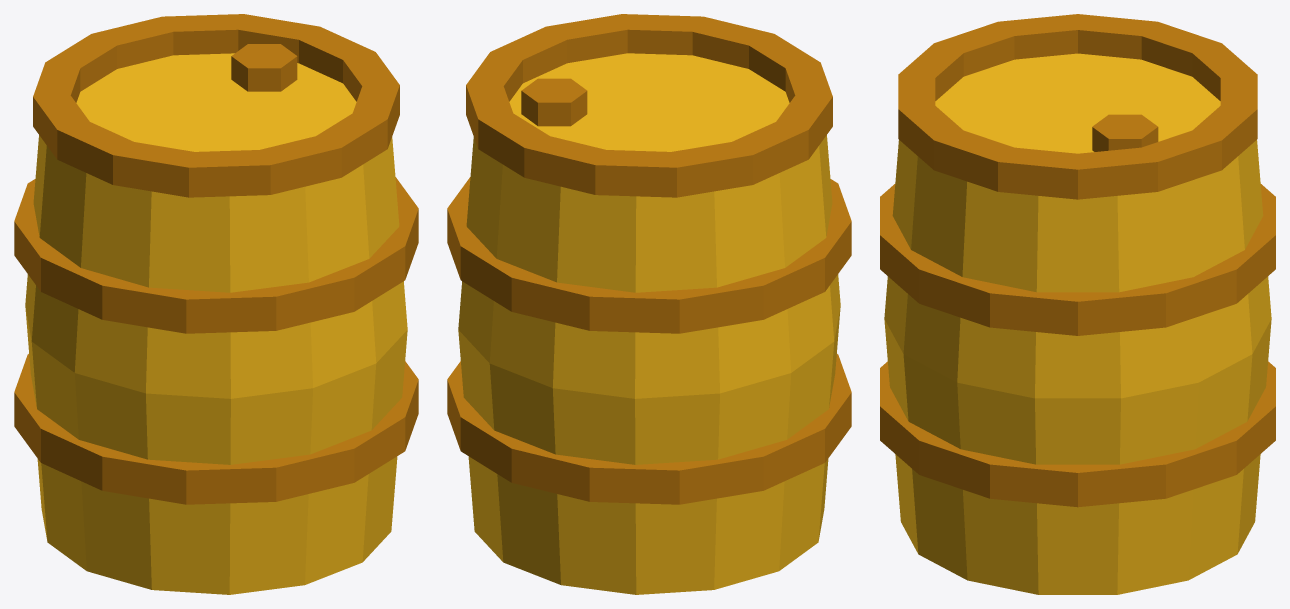
The model's file is item_barrel_gold.fbx.
The picture shows the model from 3 angles, left to right: view 1: azimuth 30°, elevation 25°; view 2: azimuth 150°, elevation 25°; view 3: azimuth 270°, elevation 25°; orthographic projection.
Visible parts, largest first — view 1: item_barrel_gold; view 2: item_barrel_gold; view 3: item_barrel_gold.
Boxes of the visible parts, x1,y1,x2,y2 form: item_barrel_gold: (14, 14, 418, 594); item_barrel_gold: (447, 14, 851, 594); item_barrel_gold: (880, 14, 1275, 594).
Bounding box in the file's own units: 1.72 × 2.01 × 1.68.
